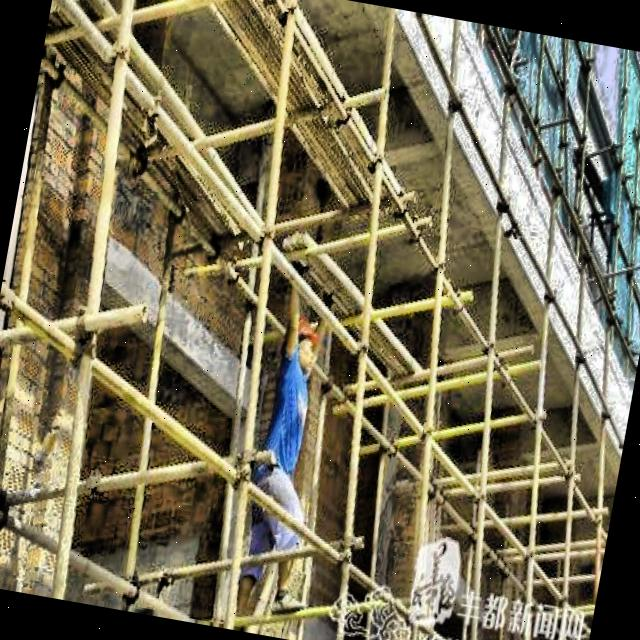helmet: (280, 312, 324, 381)
